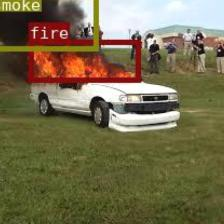fire: (28, 39, 139, 81)
smoke: (0, 0, 96, 50)
